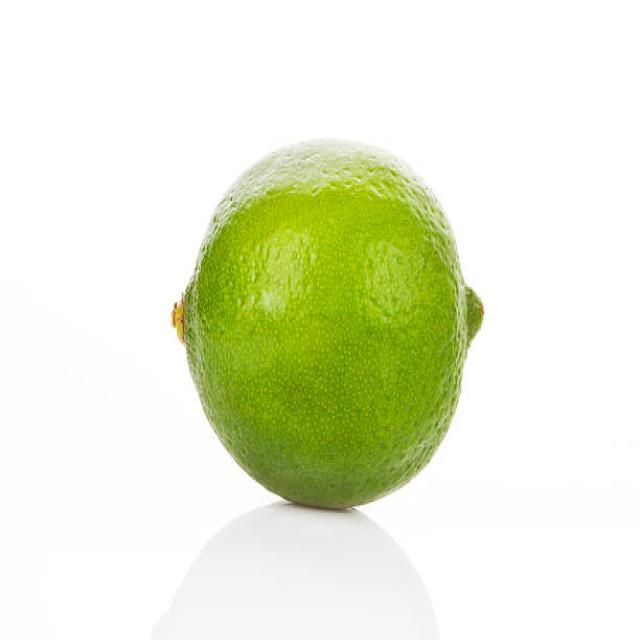Unripe: (171, 136, 484, 511)
